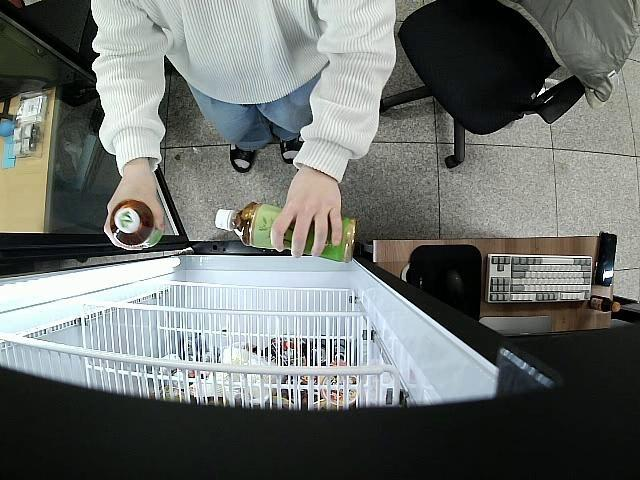19_17cha: (214, 200, 358, 262), (110, 198, 165, 248)
